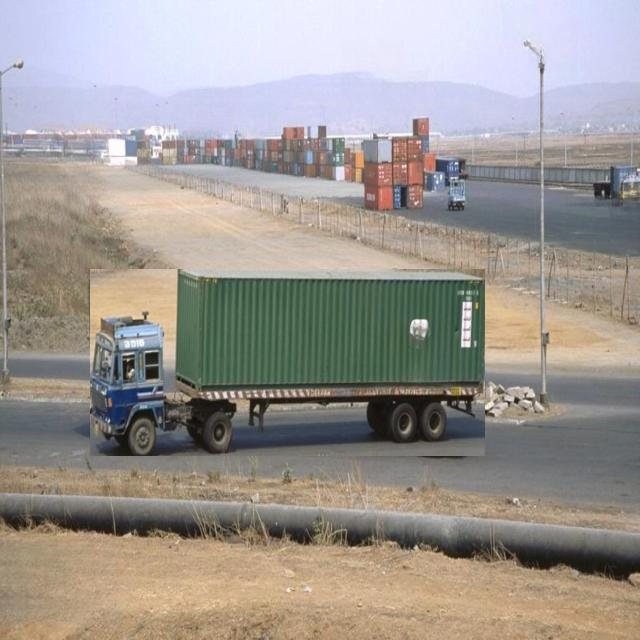truck: (90, 269, 485, 456)
